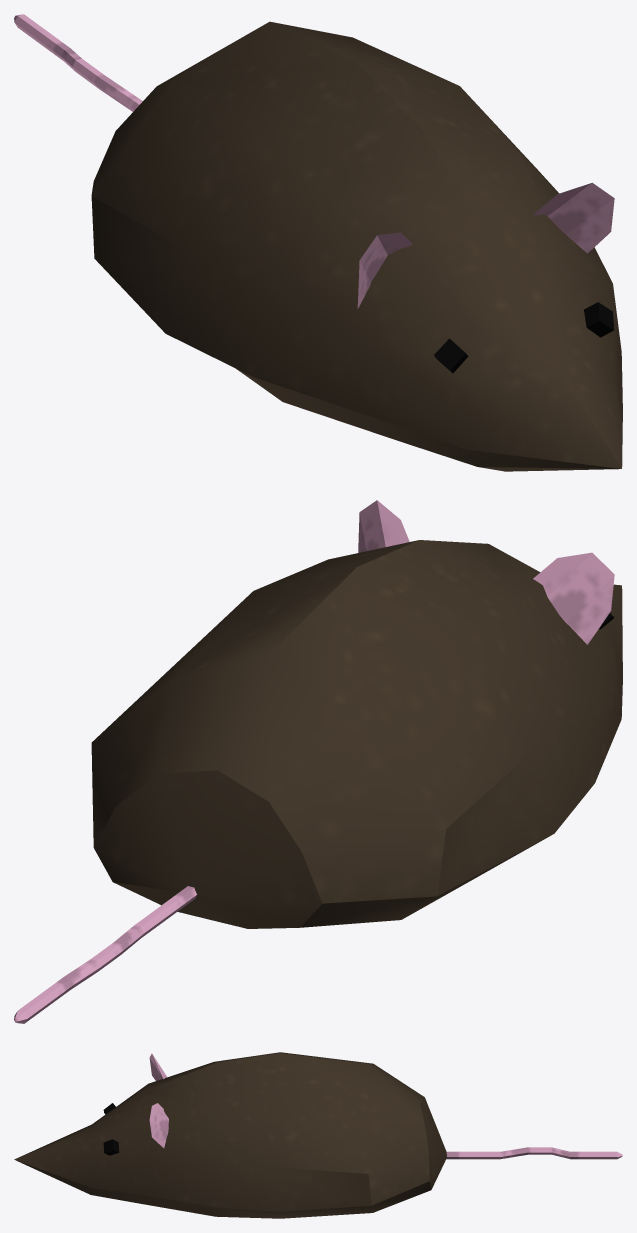
The model's file is rat.gltf.
3 views of the same model, one above another, from view 1: azimuth 30°, elevation 25°; view 2: azimuth 150°, elevation 25°; view 3: azimuth 270°, elevation 25° (orthographic). The views are drawn at different scales.
Visible parts, largest first — view 1: Body, EarR, Cola, Cube; view 2: Body, EarR, Cola; view 3: Body, Cola, EarR, Cube.
Part boxes in pixels (x1,y1,x2,y2): Body: [91, 21, 622, 471]; EarR: [357, 182, 614, 308]; Cola: [14, 14, 142, 111]; Cube: [434, 302, 614, 373]; Body: [91, 540, 622, 928]; EarR: [358, 500, 614, 644]; Cola: [14, 886, 196, 1023]; Body: [14, 1052, 446, 1218]; Cola: [446, 1147, 622, 1159]; EarR: [149, 1053, 168, 1148]; Cube: [103, 1103, 119, 1155].
Bounding box in the file's own units: 1.2 × 0.8185 × 3.25.
Materials: 1 (1 with a texture image).
